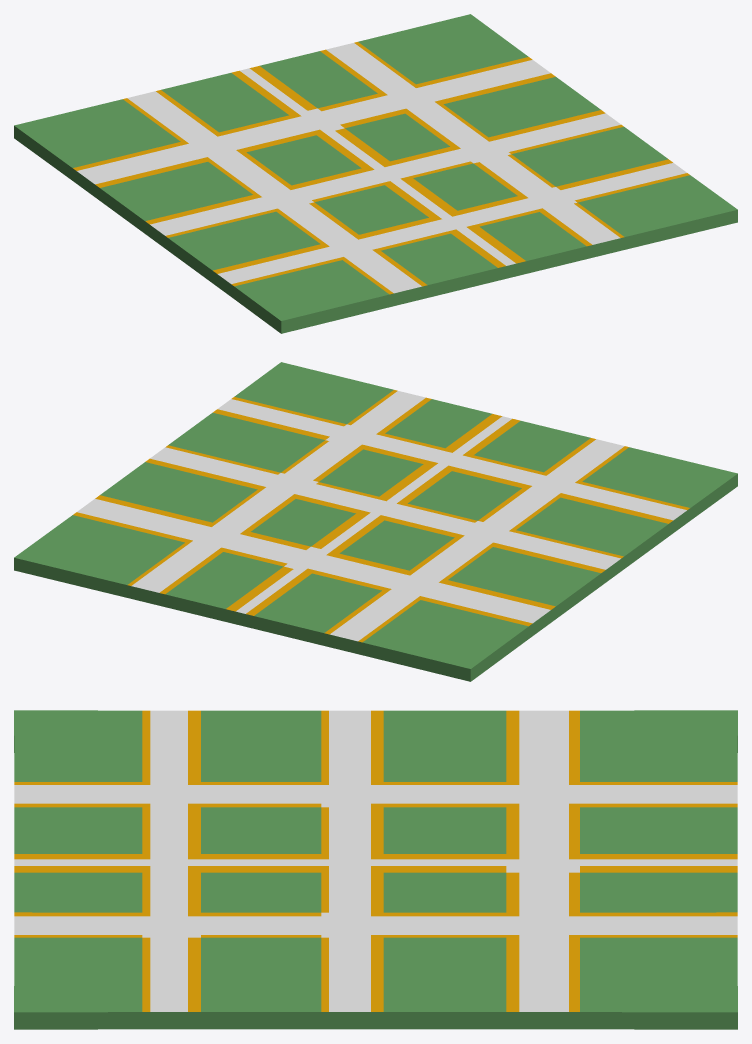
File: weg_groen.fbx
3 renders of one model, top to bottom at view 1: azimuth 30°, elevation 25°; view 2: azimuth 150°, elevation 25°; view 3: azimuth 270°, elevation 25°, orthographic. The views are drawn at different scales.
Parts seen in each view (by area): view 1: Cube.001; view 2: Cube.001; view 3: Cube.001.
Part boxes in pixels (x1,y1,x2,y2): Cube.001: [14, 14, 737, 333]; Cube.001: [14, 362, 737, 681]; Cube.001: [14, 710, 737, 1029].
Size of the model in its own units: 3782 by 101 by 3832.
